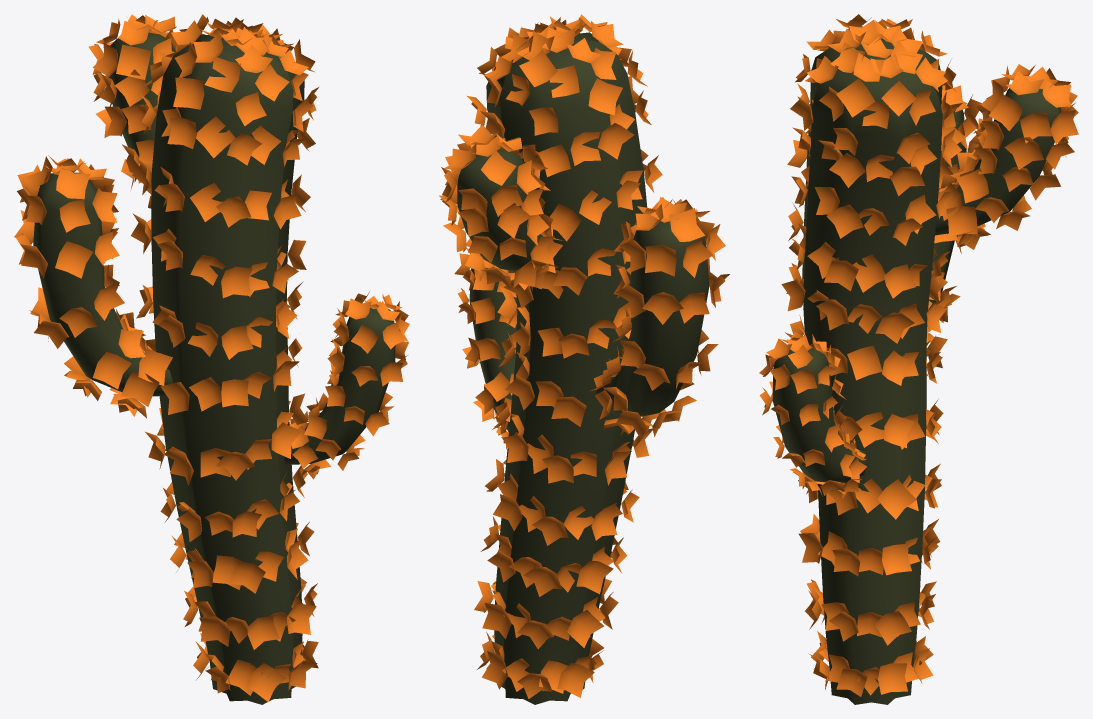
The model's file is CactuBig.fbx.
3 views of the same model, side by side, from view 1: azimuth 30°, elevation 25°; view 2: azimuth 150°, elevation 25°; view 3: azimuth 270°, elevation 25° (orthographic). The views are drawn at different scales.
Visible parts, largest first — view 1: CactuBig; view 2: CactuBig; view 3: CactuBig.
Boxes of the visible parts, x1,y1,x2,y2 form: CactuBig: (14, 14, 409, 704); CactuBig: (439, 14, 729, 704); CactuBig: (759, 14, 1078, 704).
Size of the model in its own units: 169 by 331 by 147.
